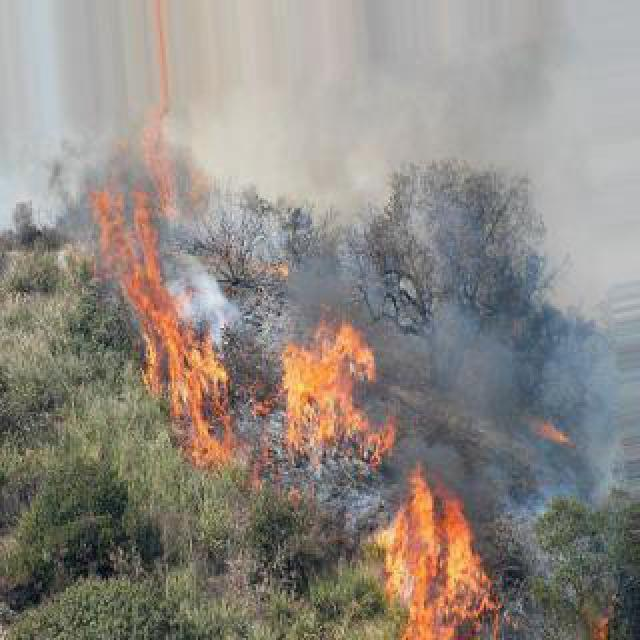Fire: (372, 484, 494, 636), (146, 214, 222, 454), (280, 324, 386, 460)
Smoke: (384, 268, 600, 486)
